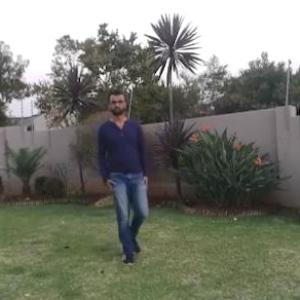follow: (104, 97, 150, 254)
